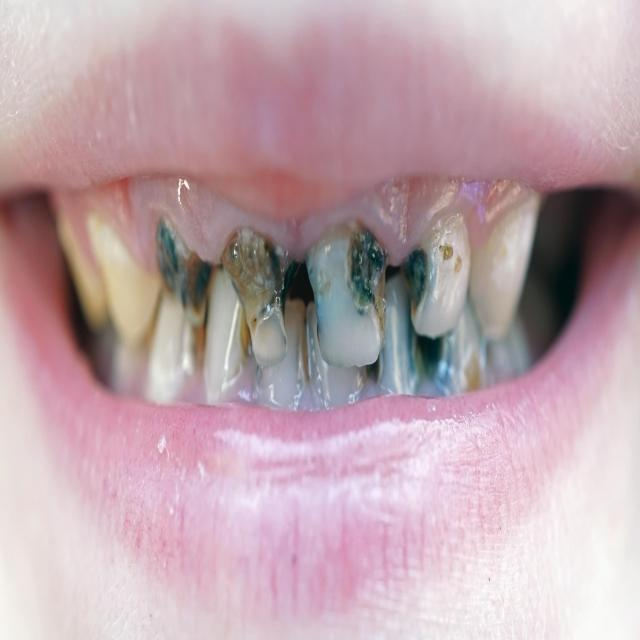Caries: (156, 218, 214, 324), (351, 248, 379, 312), (405, 250, 428, 304), (365, 234, 383, 280), (280, 265, 291, 316), (265, 244, 279, 278)
Cavity: (221, 229, 293, 338), (346, 221, 389, 354), (401, 247, 429, 329)
Tooth: (305, 221, 389, 367), (470, 194, 542, 339), (221, 229, 293, 366), (401, 212, 471, 337), (91, 216, 159, 335), (306, 302, 368, 409), (58, 215, 108, 334), (205, 269, 252, 395), (255, 295, 305, 409), (378, 273, 423, 394), (145, 290, 188, 394)
